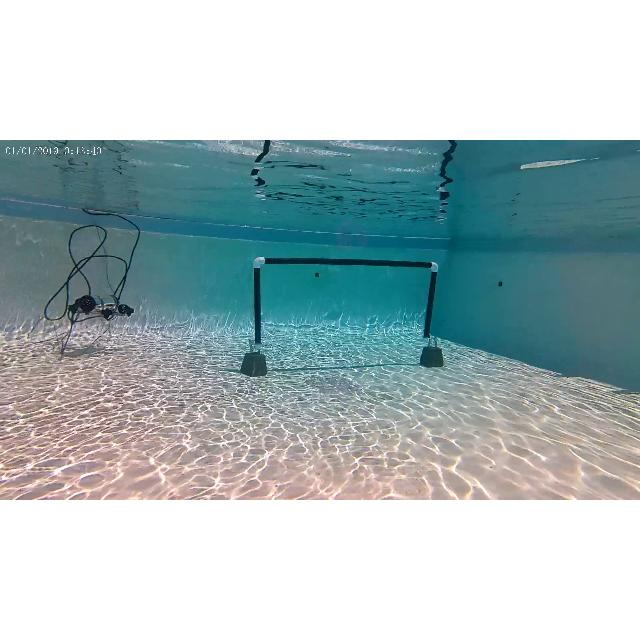prequal gate: (255, 258, 440, 346)
prequal gate leg l: (248, 257, 270, 363)
prequal gate leg r: (421, 257, 443, 357)
